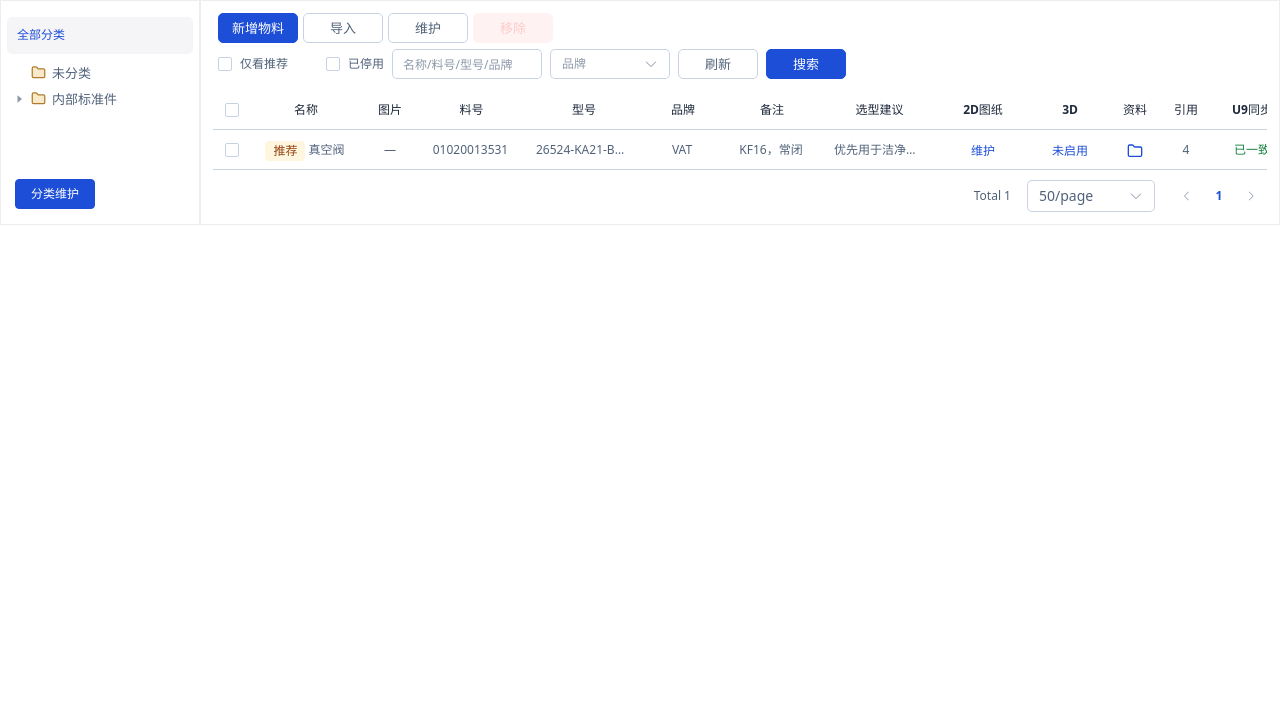
StandardLibrary › moves maintenance above the table and opens PLM-only batch editing for multiple selections
The width and height of the screenshot is (1280, 720).
Click the 1st button "维护": (428, 28) [388, 13, 468, 43]
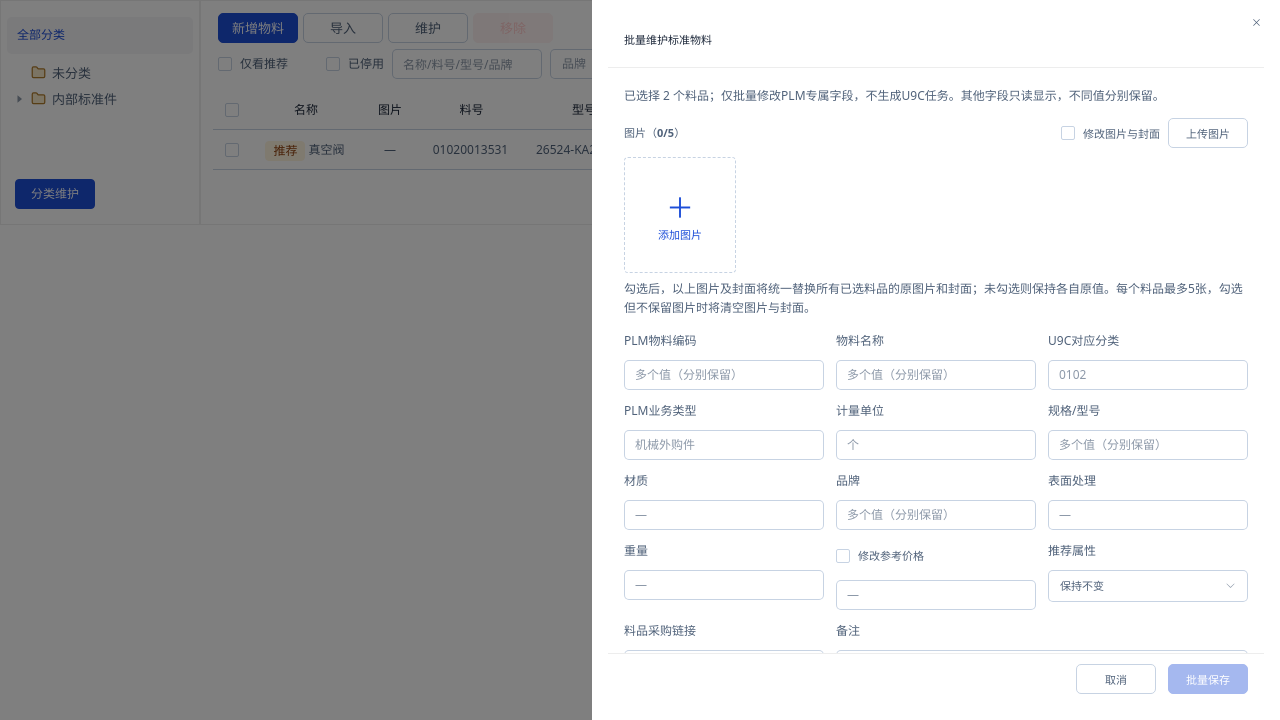
Check: the text "批量维护标准物料" is shown, box [624, 32, 712, 47]
Check: the text "已选择 2 个料品" is shown, box [624, 87, 1165, 104]
Check: the text "仅批量修改PLM专属字段，不生成U9C任务" is shown, box [624, 87, 1165, 104]
